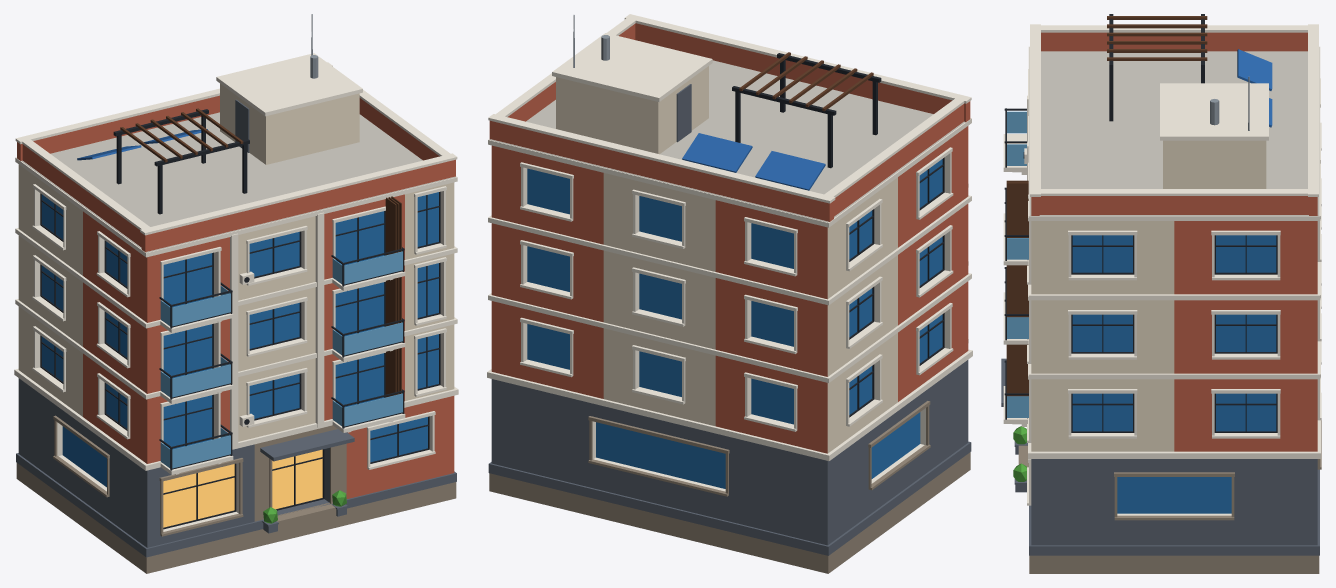
Rendered from 07_midrise_residential-lod0.glb.
The picture shows the model from 3 angles, left to right: view 1: azimuth 30°, elevation 25°; view 2: azimuth 150°, elevation 25°; view 3: azimuth 270°, elevation 25°; orthographic projection. The views are drawn at different scales.
Visible parts, largest first — view 1: BloqueCuatroPlantas_LOD0; view 2: BloqueCuatroPlantas_LOD0; view 3: BloqueCuatroPlantas_LOD0.
Part boxes in pixels (x1,y1,x2,y2): BloqueCuatroPlantas_LOD0: [14, 14, 458, 573]; BloqueCuatroPlantas_LOD0: [487, 14, 972, 573]; BloqueCuatroPlantas_LOD0: [1001, 14, 1321, 573].
Size of the model in its own units: 14.08 by 18.18 by 11.19.
2 materials, 2 textured.
